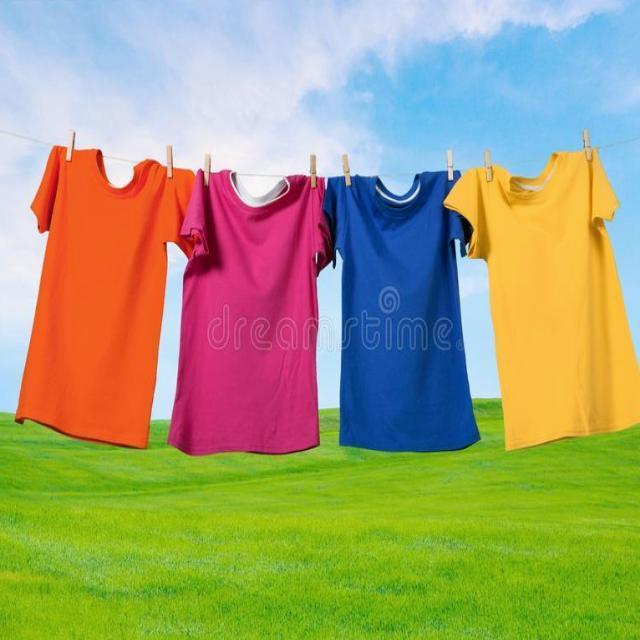clothes: (446, 121, 640, 449), (169, 136, 330, 450), (326, 159, 489, 454), (20, 130, 159, 444)
